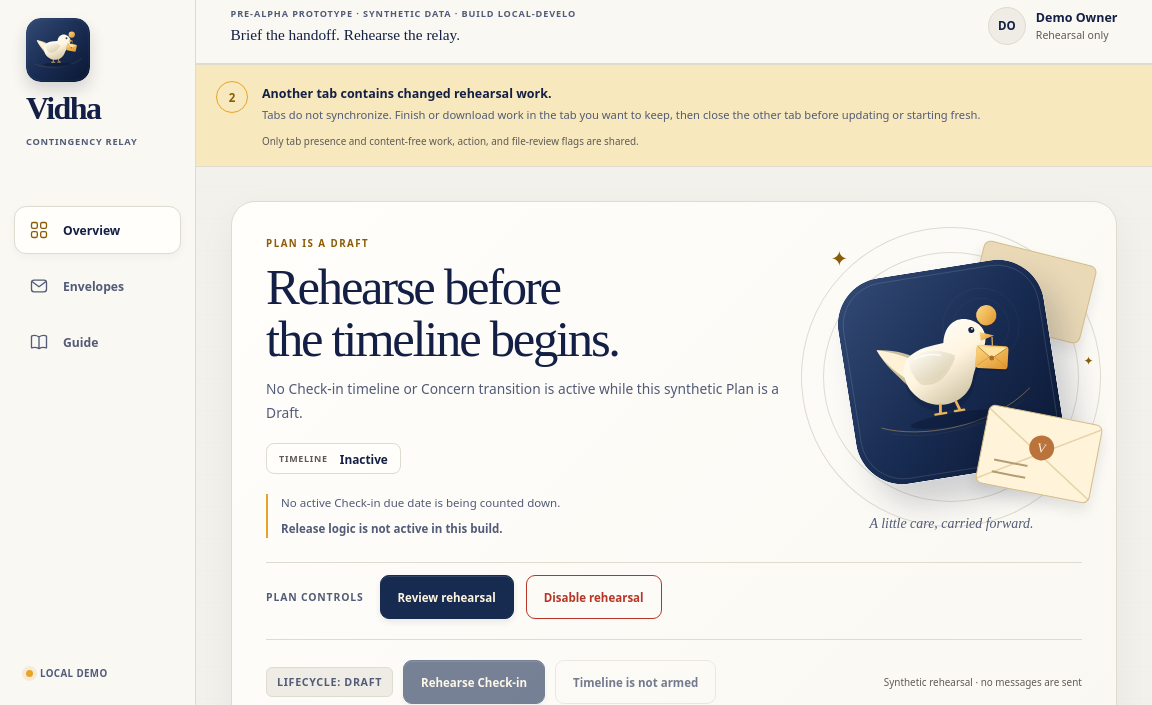
Test: Vidha synthetic foundation app › holds a fresh-session reset when another tab contains changed work
Expected: the element named "Multi-tab rehearsal status" shows "Another tab contains changed rehearsal work.", [262,85,552,102]
Click the button "Review rehearsal" at x=447, y=597, box [380,575,514,619]
(page scrolled)
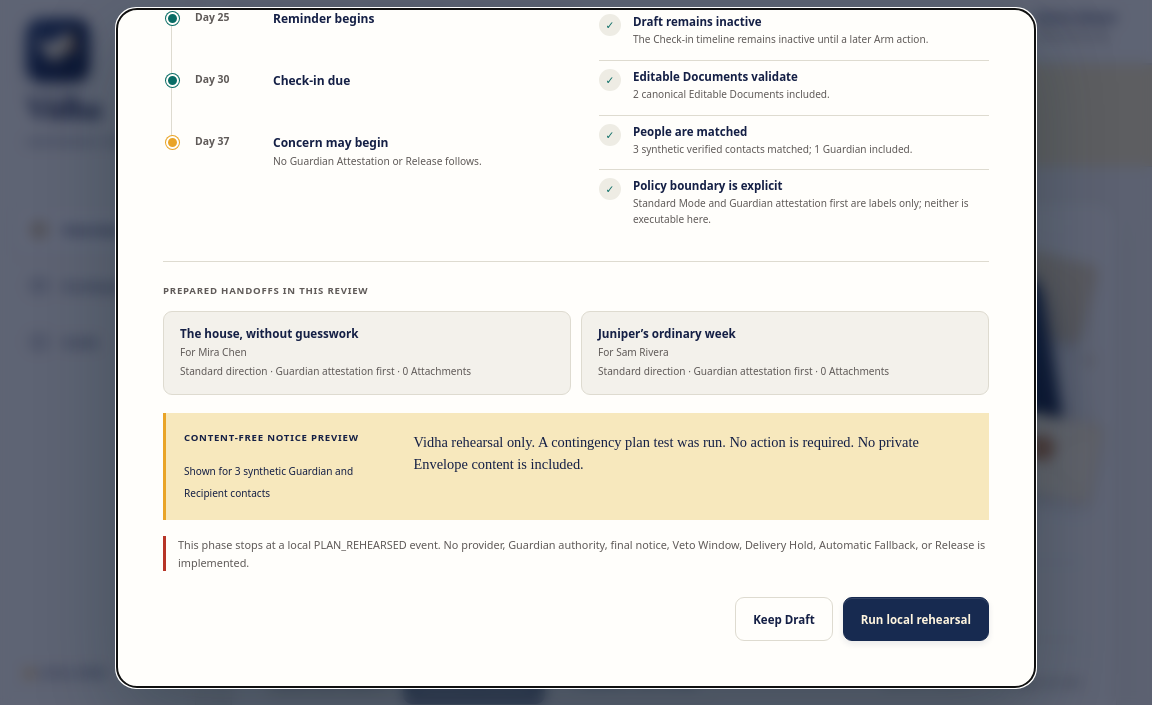
Click the button "Run local rehearsal" at x=916, y=620, box [843,598,989,642]
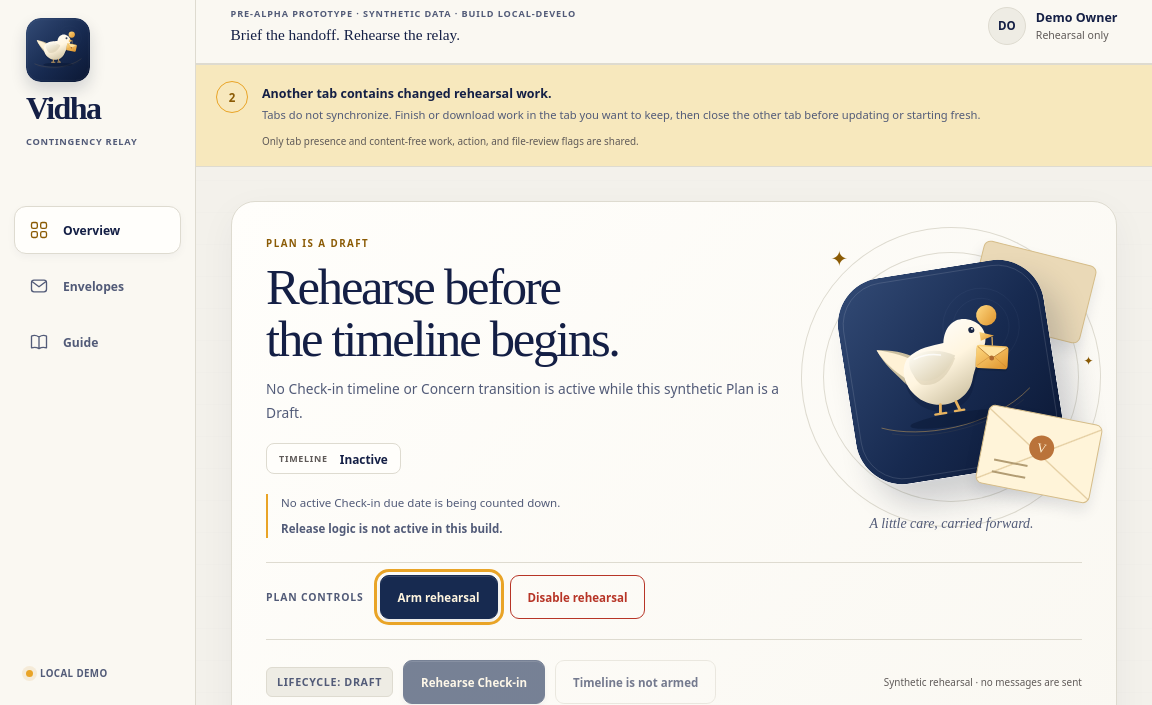
Click the button "Arm rehearsal" at x=438, y=597, box [380,575,498,619]
(page scrolled)
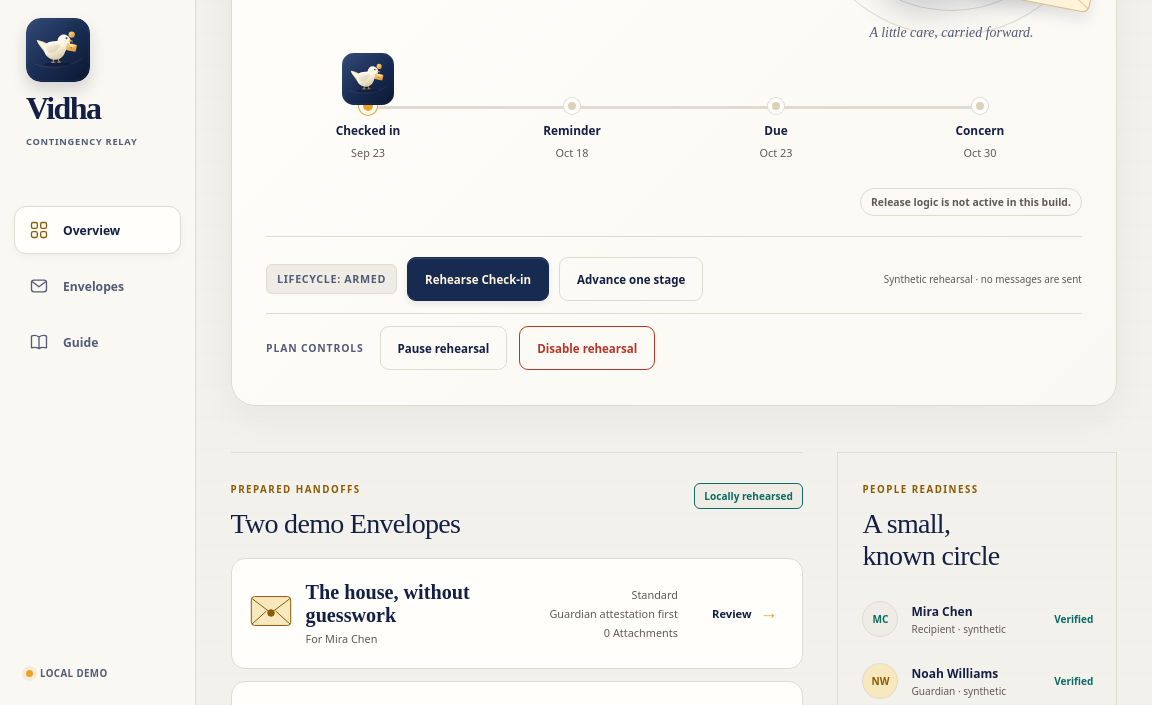
Expected: the text "Lifecycle: armed" is shown, [266,264,397,294]
Click the button "Disable rehearsal" at x=587, y=348, box [519,326,655,370]
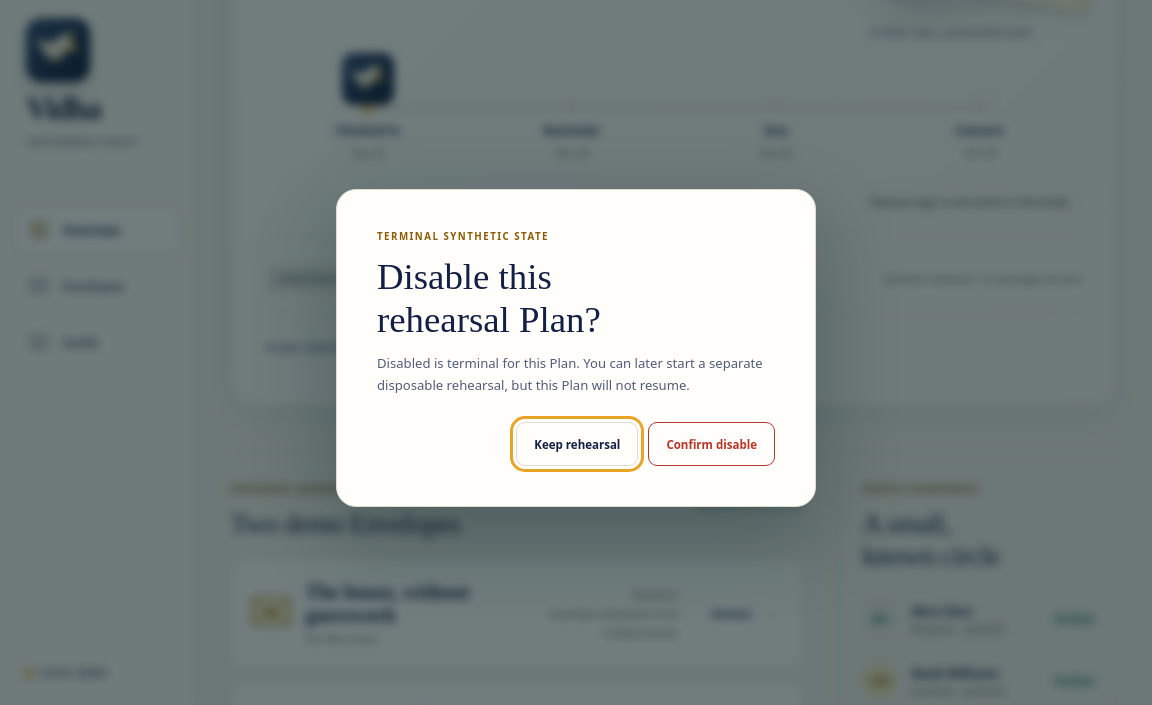
Click the button "Confirm disable" at x=712, y=444, box [648,422,775,466]
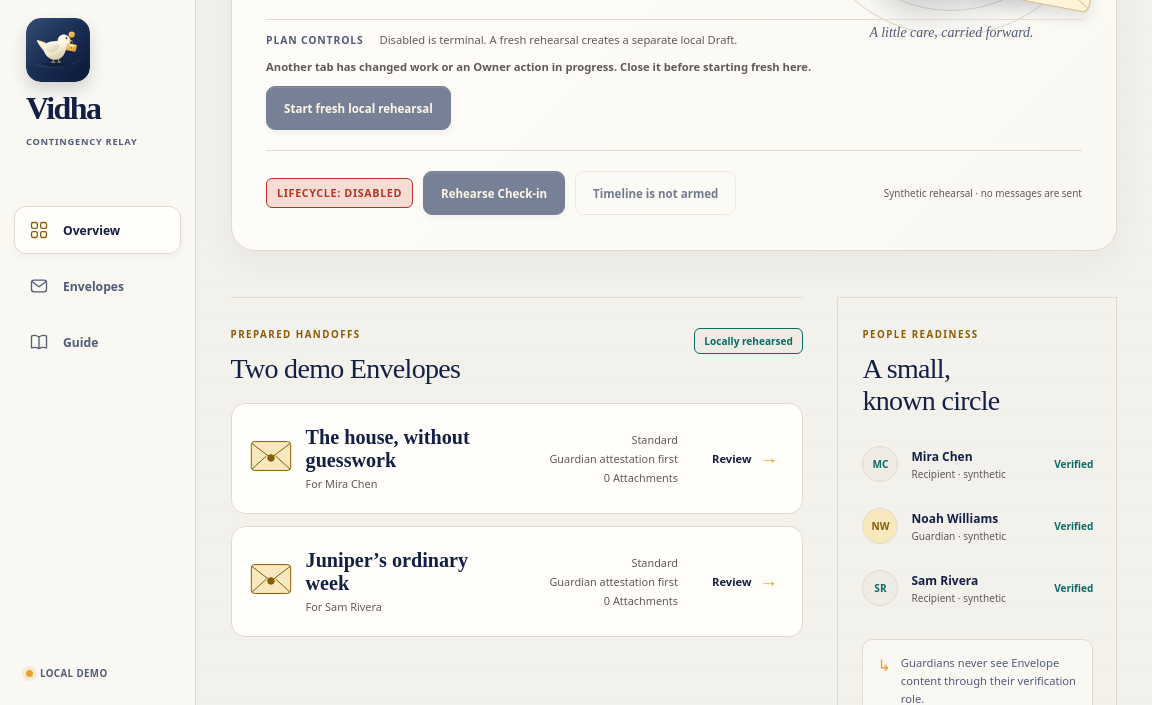
Expected: the button "Start fresh local rehearsal" is disabled, [266,86,451,130]
Expected: the text "close it before starting fresh here" is shown, [266,59,811,74]
